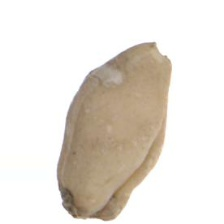L1: (59, 193, 107, 220), (146, 41, 172, 70)
L2: (56, 42, 172, 222)
